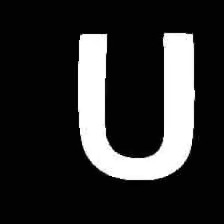LTR_U: (67, 21, 203, 182)
